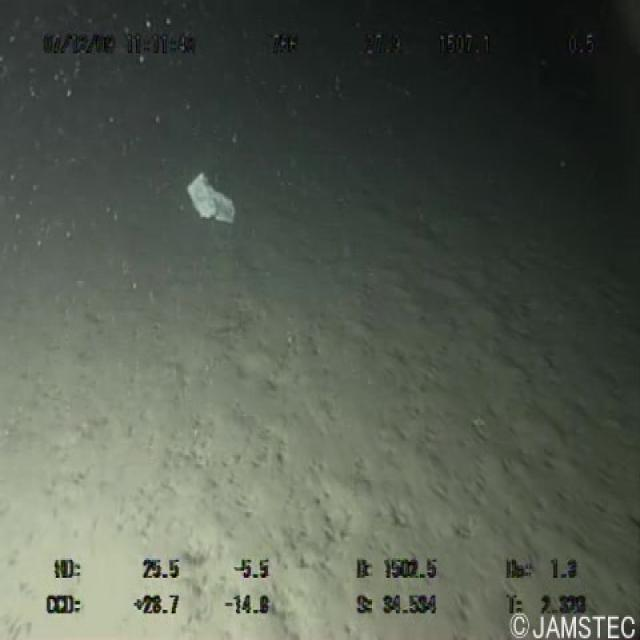plastic: (179, 162, 240, 229)
